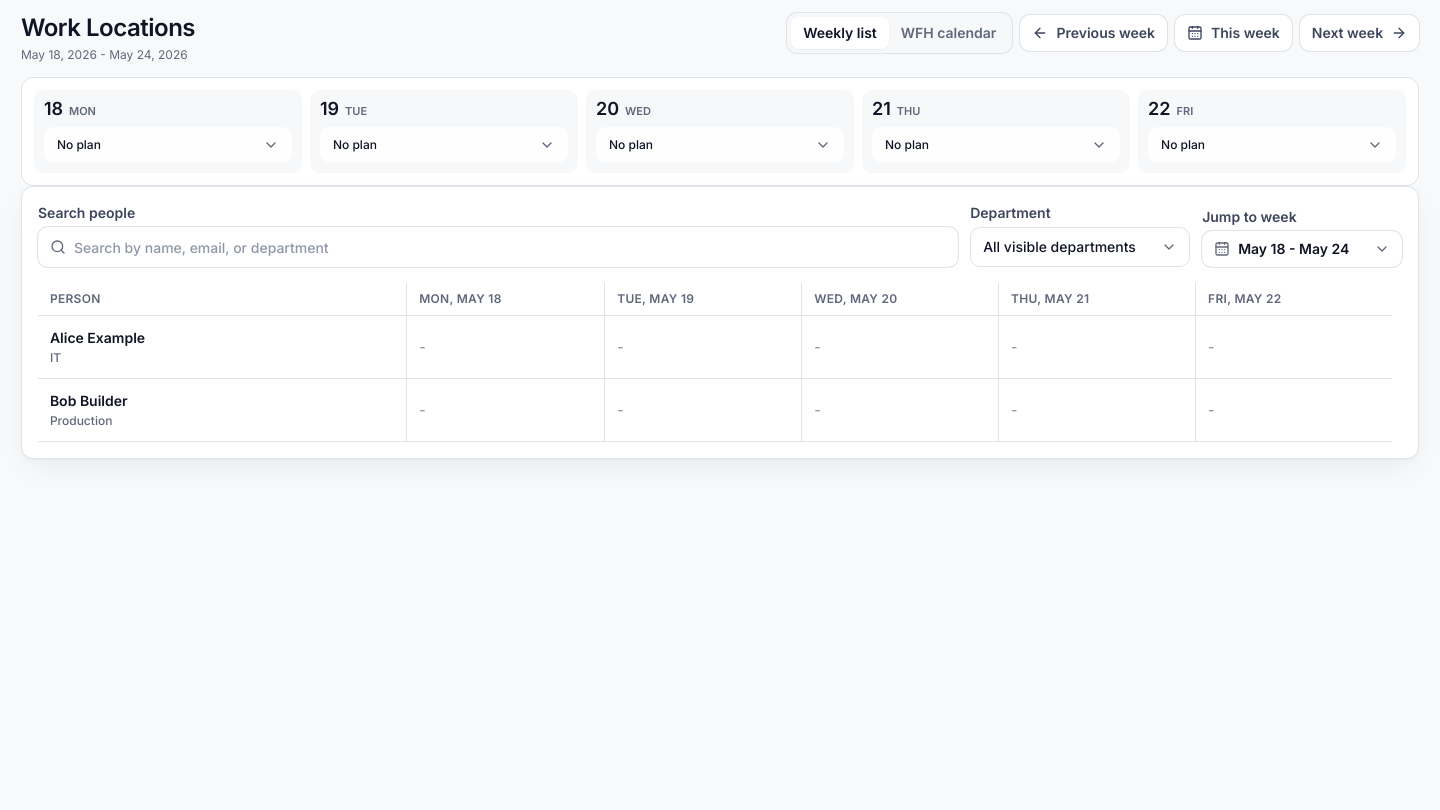
Test case: WorkLocationCalendar › opens the week picker outside the clipped locations layout
Click the button with aria-label "Jump to week" at point(1302, 250), box [1202, 232, 1402, 268]
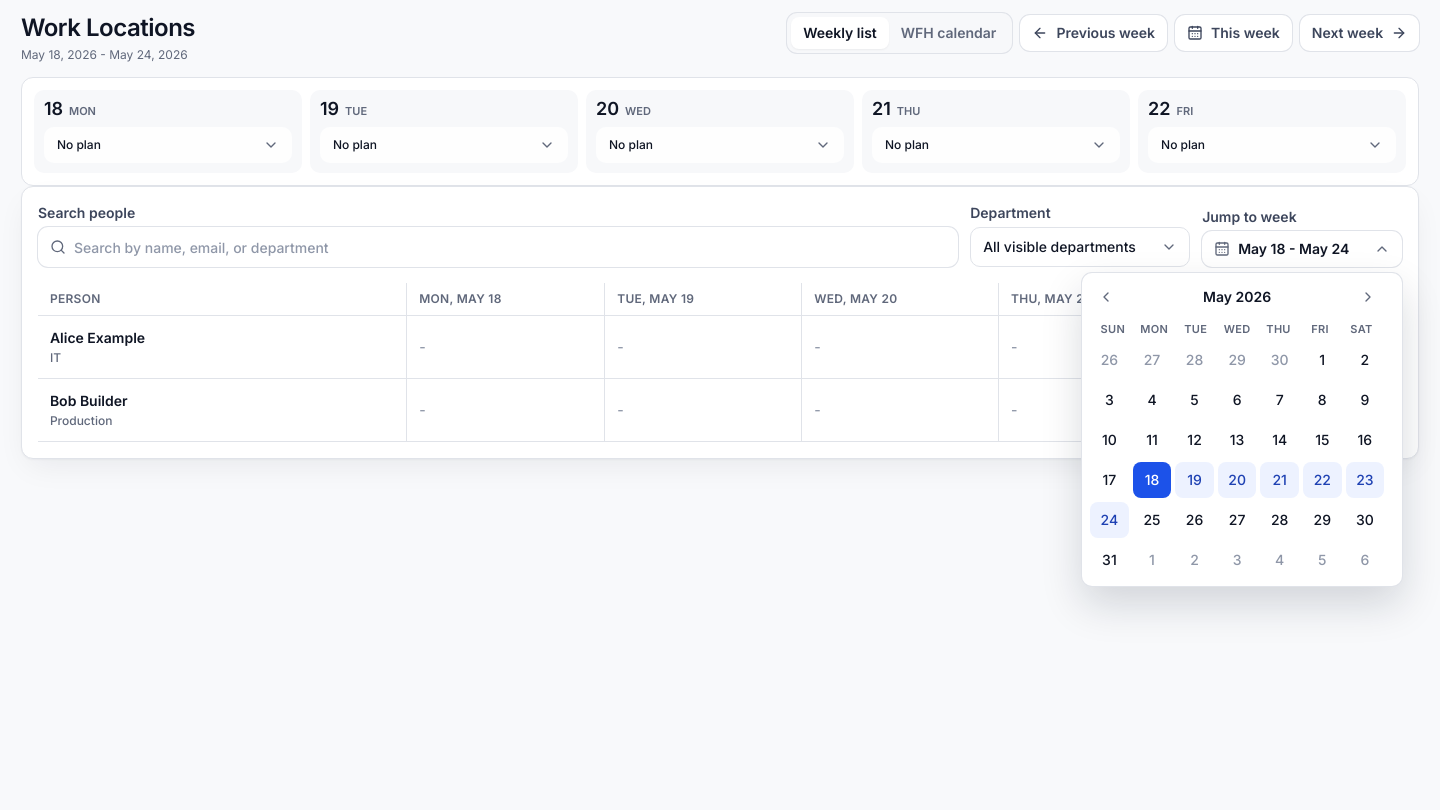
Check: the element with id "work-location-week-picker" is shown, box [1082, 274, 1402, 586]
